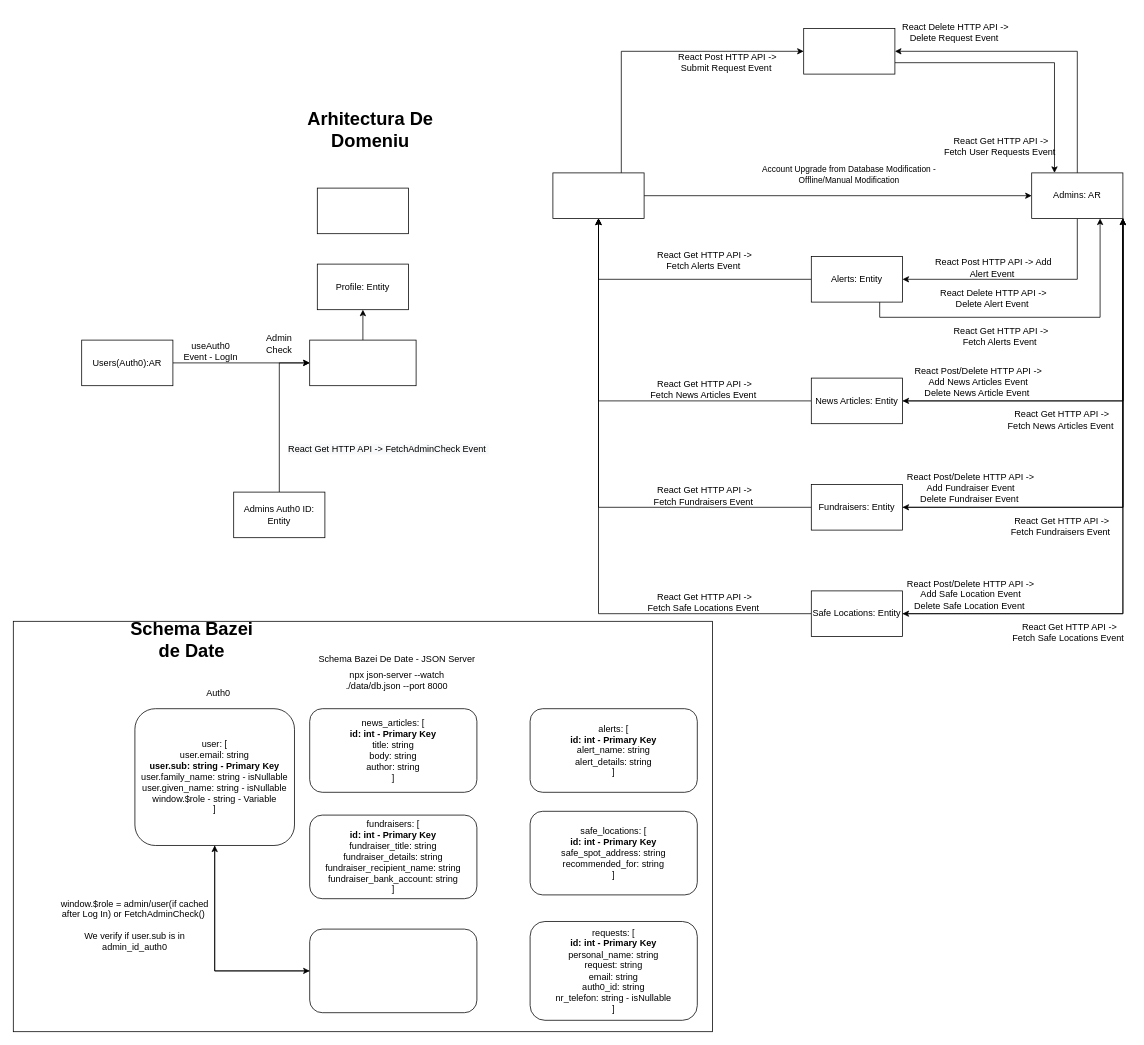
Image size: 1144x1045. Some labels were removed from this diagram. Each missing label, with the box of its shape:
admins: [ id: int - Primary Key admin_id_auth0: string - "FK" ]: (309, 928, 477, 1013)
Contact: VO: (317, 187, 408, 234)
Requests: Entity: (803, 28, 895, 74)
Roles(Admin/User): VO: (309, 339, 416, 386)
Users: AR: (552, 172, 644, 218)
